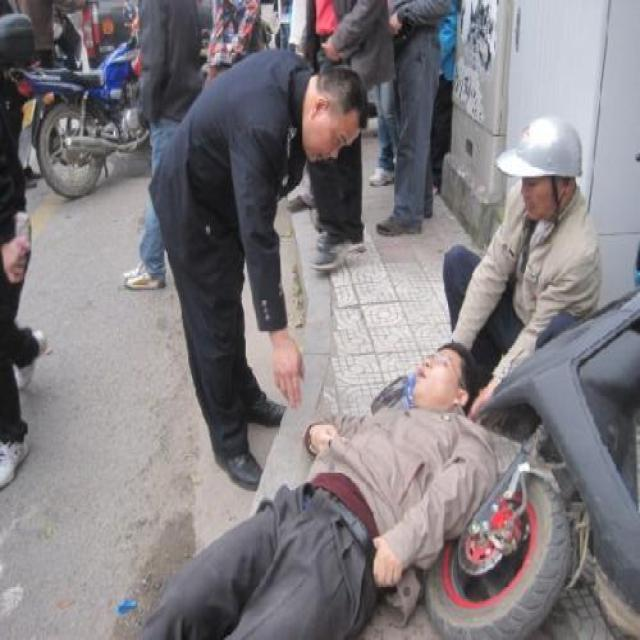10-: (0, 0, 636, 637)
down: (122, 334, 512, 638)
